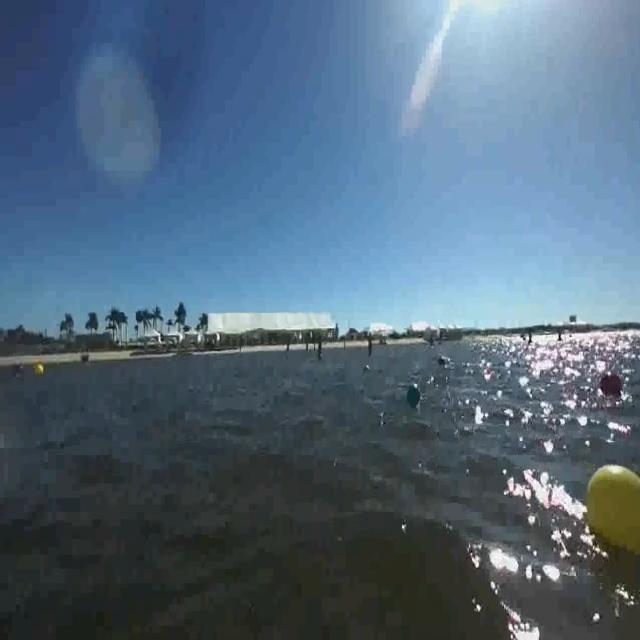yellow-buoy: (581, 458, 639, 562)
